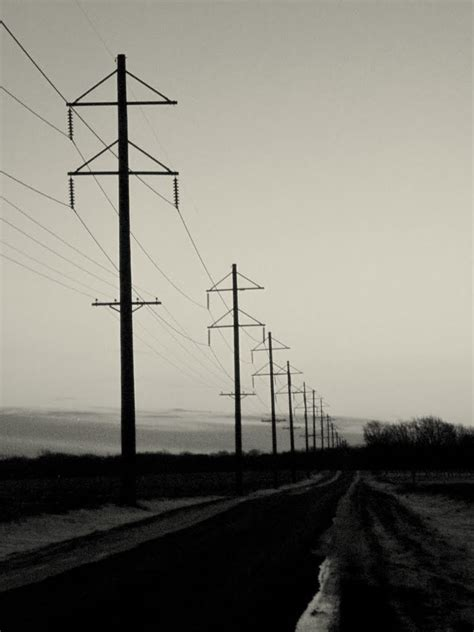pole: (62, 42, 196, 467)
